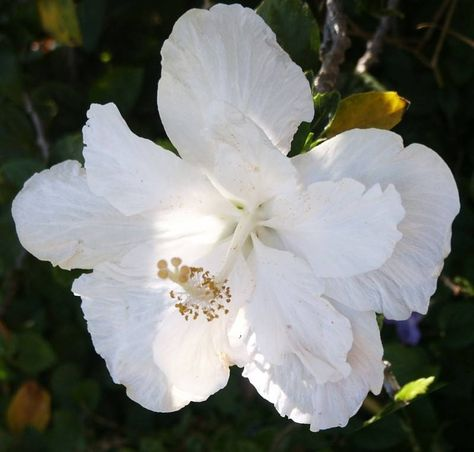Hibiscus: (4, 4, 461, 428)
